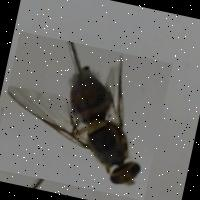Oriental-fruit-fly: (0, 31, 171, 200)
